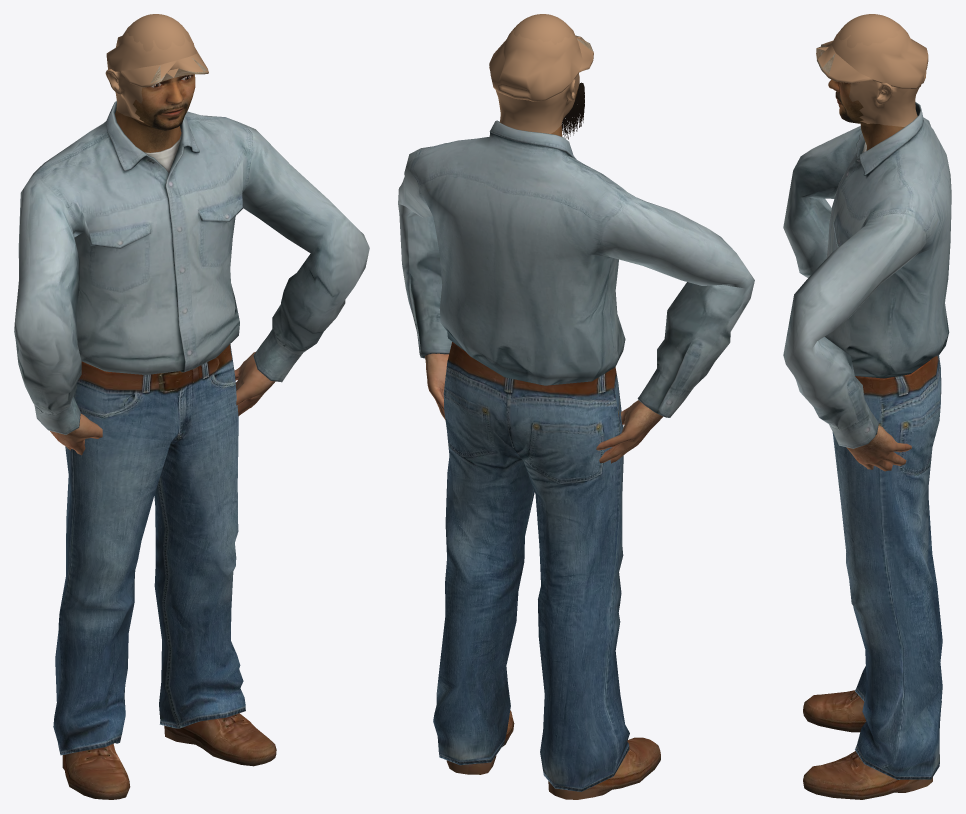
The model's file is store-man-v415.glb.
3 views of the same model, side by side, from view 1: azimuth 30°, elevation 25°; view 2: azimuth 150°, elevation 25°; view 3: azimuth 270°, elevation 25° (orthographic).
Parts seen in each view (by area): view 1: m110_hipoly_81_bones, Shaved scalp smooth crown; view 2: m110_hipoly_81_bones, Shaved scalp smooth crown, Nolan | full head-bound beard; view 3: m110_hipoly_81_bones, Shaved scalp smooth crown.
Boxes of the visible parts, x1=… form: m110_hipoly_81_bones: x1=14, y1=22, x2=369, y2=799; Shaved scalp smooth crown: x1=127, y1=14, x2=190, y2=51; m110_hipoly_81_bones: x1=398, y1=24, x2=754, y2=799; Shaved scalp smooth crown: x1=513, y1=14, x2=574, y2=44; Nolan | full head-bound beard: x1=561, y1=82, x2=584, y2=139; m110_hipoly_81_bones: x1=783, y1=23, x2=951, y2=799; Shaved scalp smooth crown: x1=839, y1=14, x2=899, y2=48.
Bounding box in the file's own units: 0.9998 × 2.03 × 0.4187.
4 materials, 2 textured.
